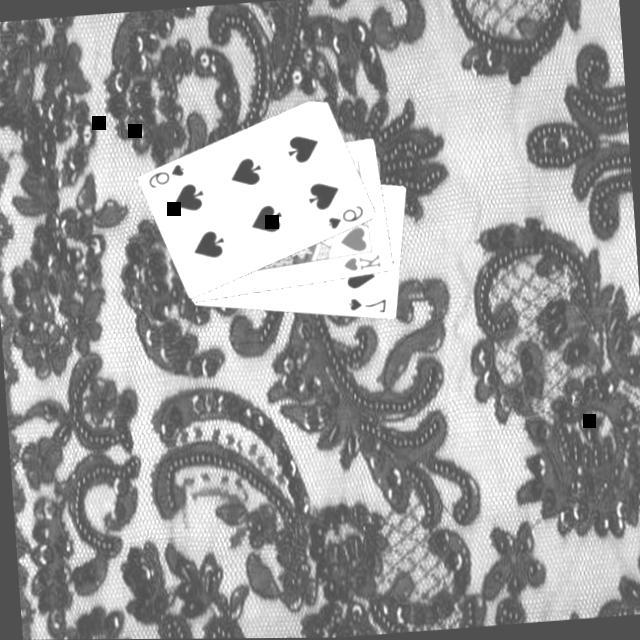6S: (145, 162, 189, 194), (324, 203, 368, 234)
7S: (346, 295, 391, 320)
KH: (340, 253, 385, 277)
